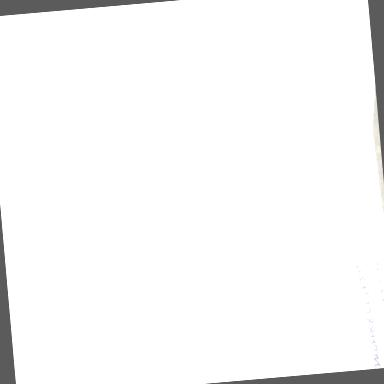pbw: (53, 55, 72, 79), (199, 138, 214, 168), (100, 121, 116, 146), (84, 256, 100, 280), (176, 176, 194, 196), (162, 250, 183, 267), (287, 163, 301, 188), (157, 255, 172, 278), (204, 234, 218, 258), (182, 124, 196, 148), (78, 122, 97, 138), (212, 188, 228, 206), (120, 230, 132, 254), (74, 138, 96, 151), (202, 182, 216, 201), (138, 174, 149, 198), (181, 210, 196, 227), (212, 178, 230, 192), (183, 195, 201, 208), (224, 104, 234, 124), (178, 207, 196, 218), (100, 236, 115, 249), (210, 246, 219, 264)
